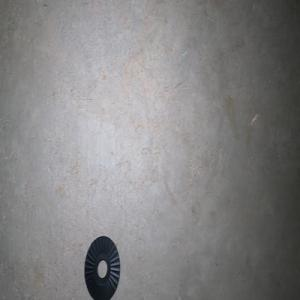Washer: (84, 235, 120, 300)
